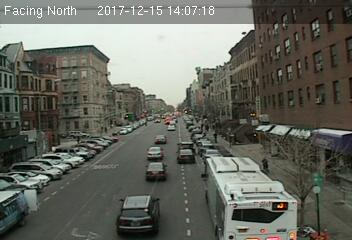bus: (203, 155, 299, 238)
car: (116, 195, 163, 234), (144, 162, 168, 182), (177, 149, 195, 164), (146, 147, 162, 160), (176, 140, 194, 149), (153, 136, 166, 143)
pedestrian: (261, 155, 274, 178)
truck: (1, 188, 31, 237)
